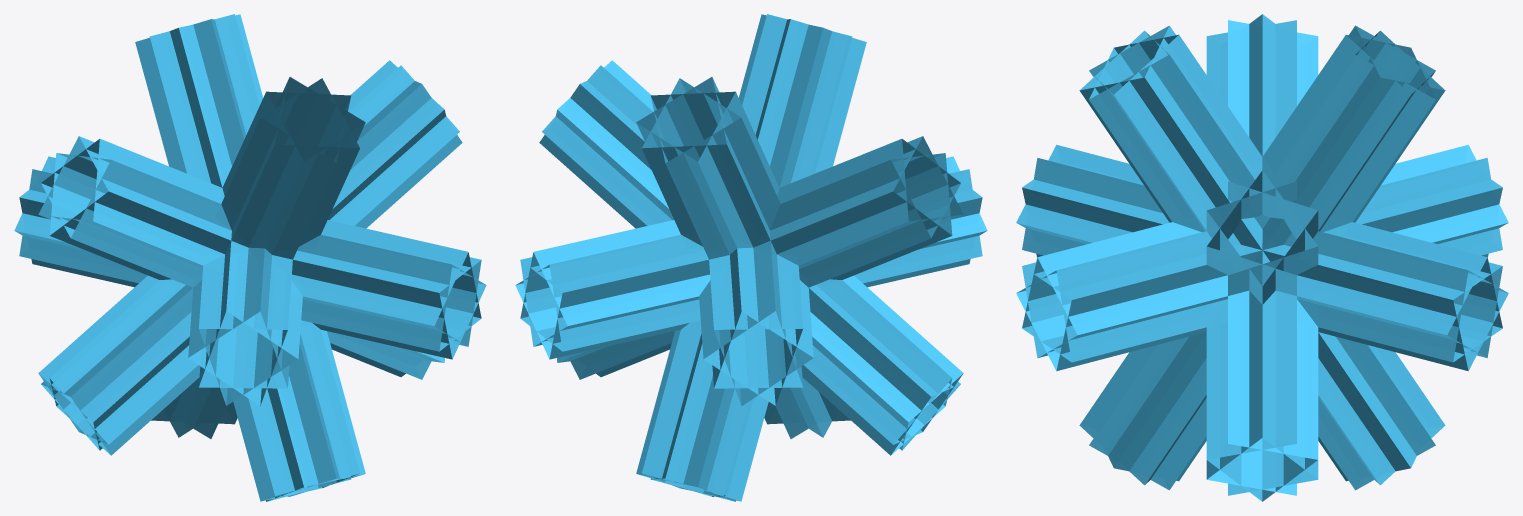
Rendered from GreatDodecahemidodecacron.obj.
The picture shows the model from 3 angles, left to right: view 1: azimuth 30°, elevation 25°; view 2: azimuth 150°, elevation 25°; view 3: azimuth 270°, elevation 25°; orthographic projection. The views are drawn at different scales.
Bounding box in the file's own units: 13.61 × 13.61 × 13.61.
